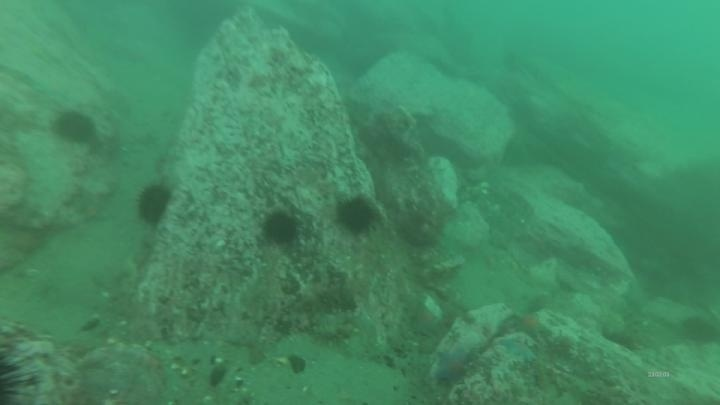echinus: (334, 194, 379, 236), (134, 181, 174, 228), (0, 354, 36, 405), (51, 108, 98, 147), (261, 209, 301, 247), (678, 313, 719, 347)
starfish: (405, 295, 446, 338), (431, 346, 474, 386), (495, 334, 538, 365), (510, 309, 551, 340)
